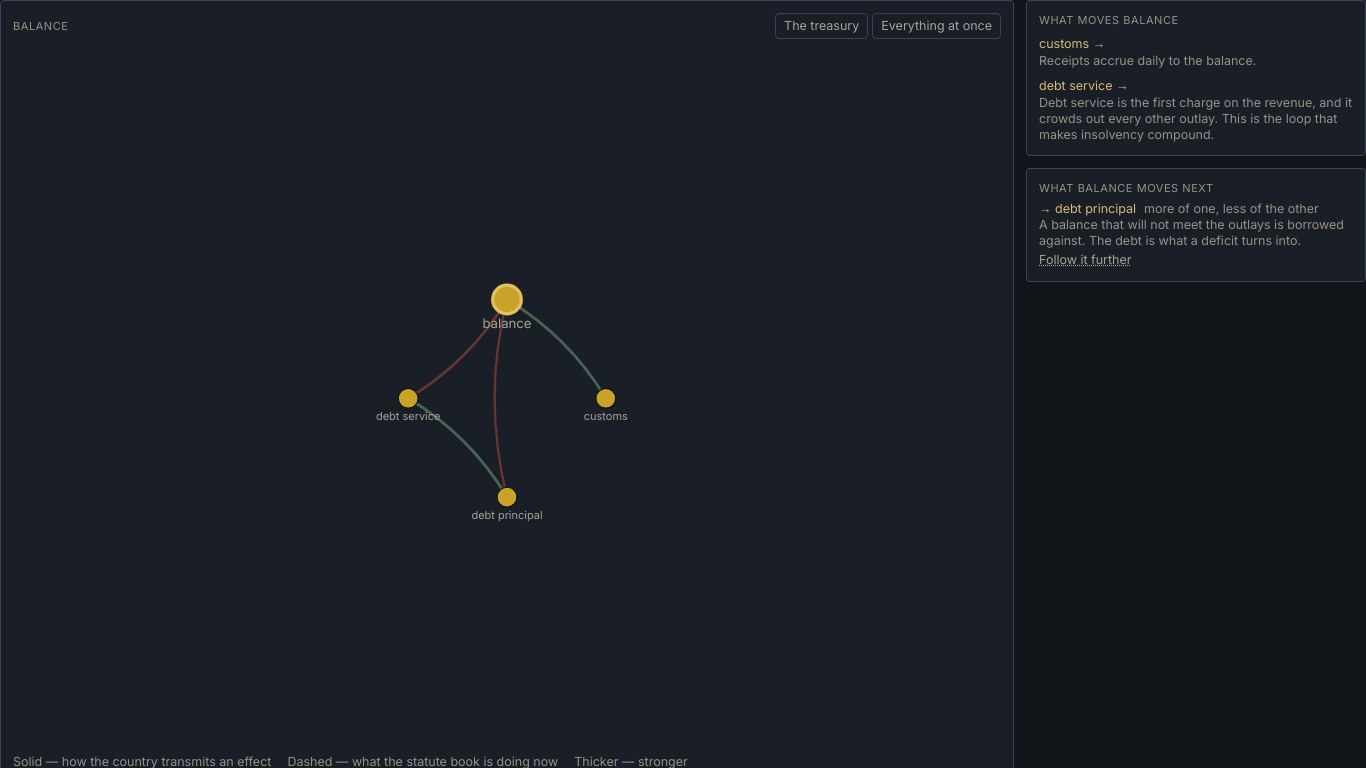
Test: the web opens focused, not as a hairball › shows everything only when asked, and says what that is for
Click the button with test id "show-all" at coordinates (937, 26), box [872,13,1001,39]
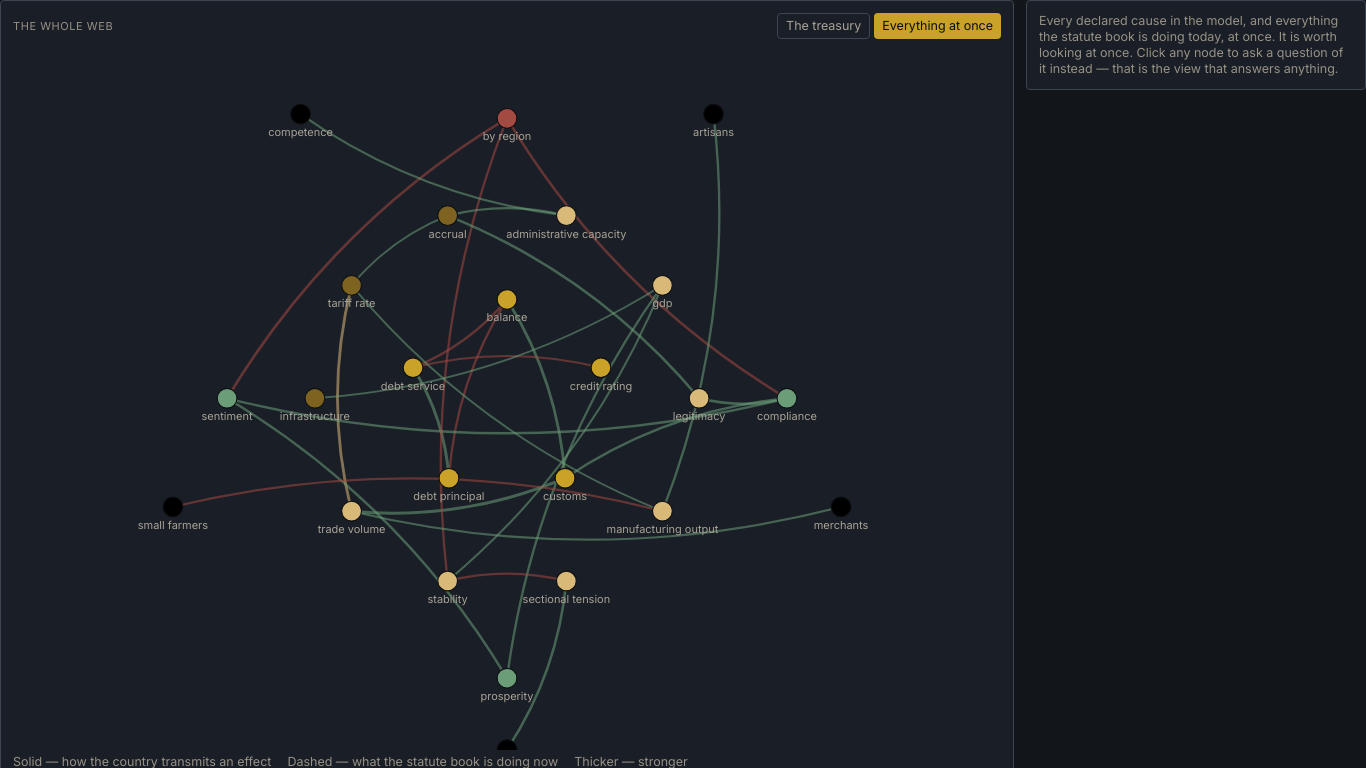
Now the text "worth looking at once" is shown, box [1039,13,1343,76]
